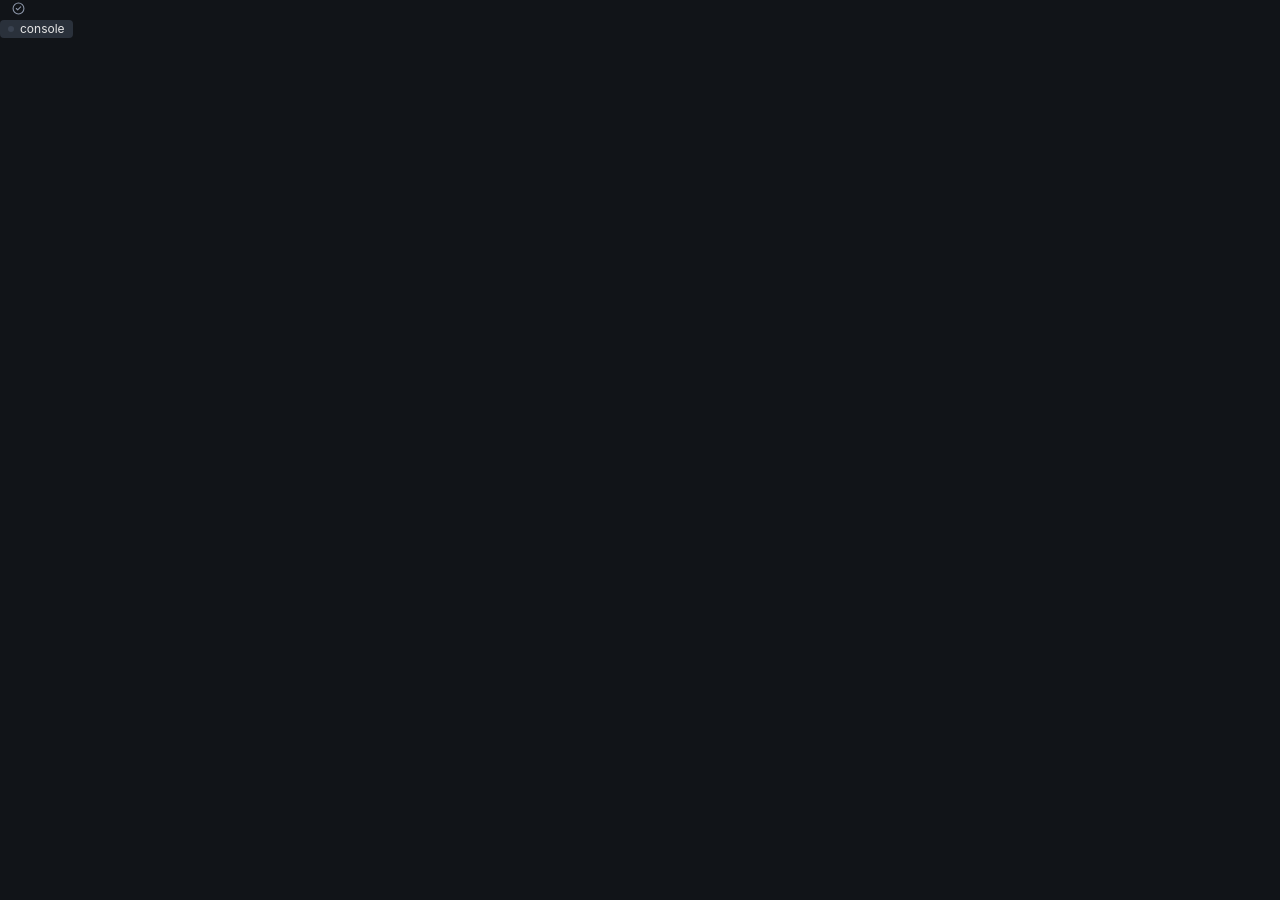
Test: the segmented control switches the tab; Escape and esc close the drawer on problems (#225)
The image size is (1280, 900).
Press M
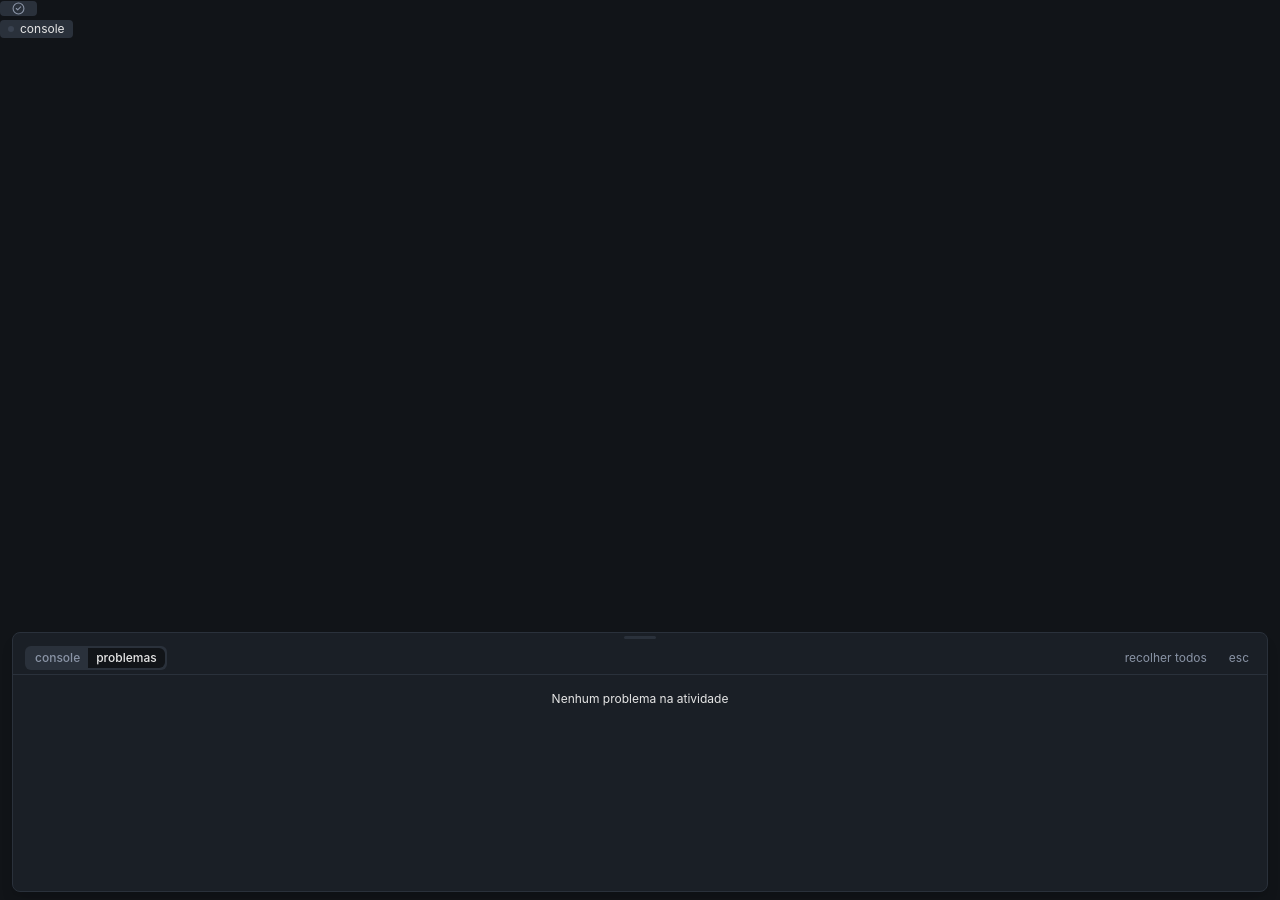
Click the radio button labelled "console".
click(58, 658)  # box x1=27 y1=648 x2=88 y2=668
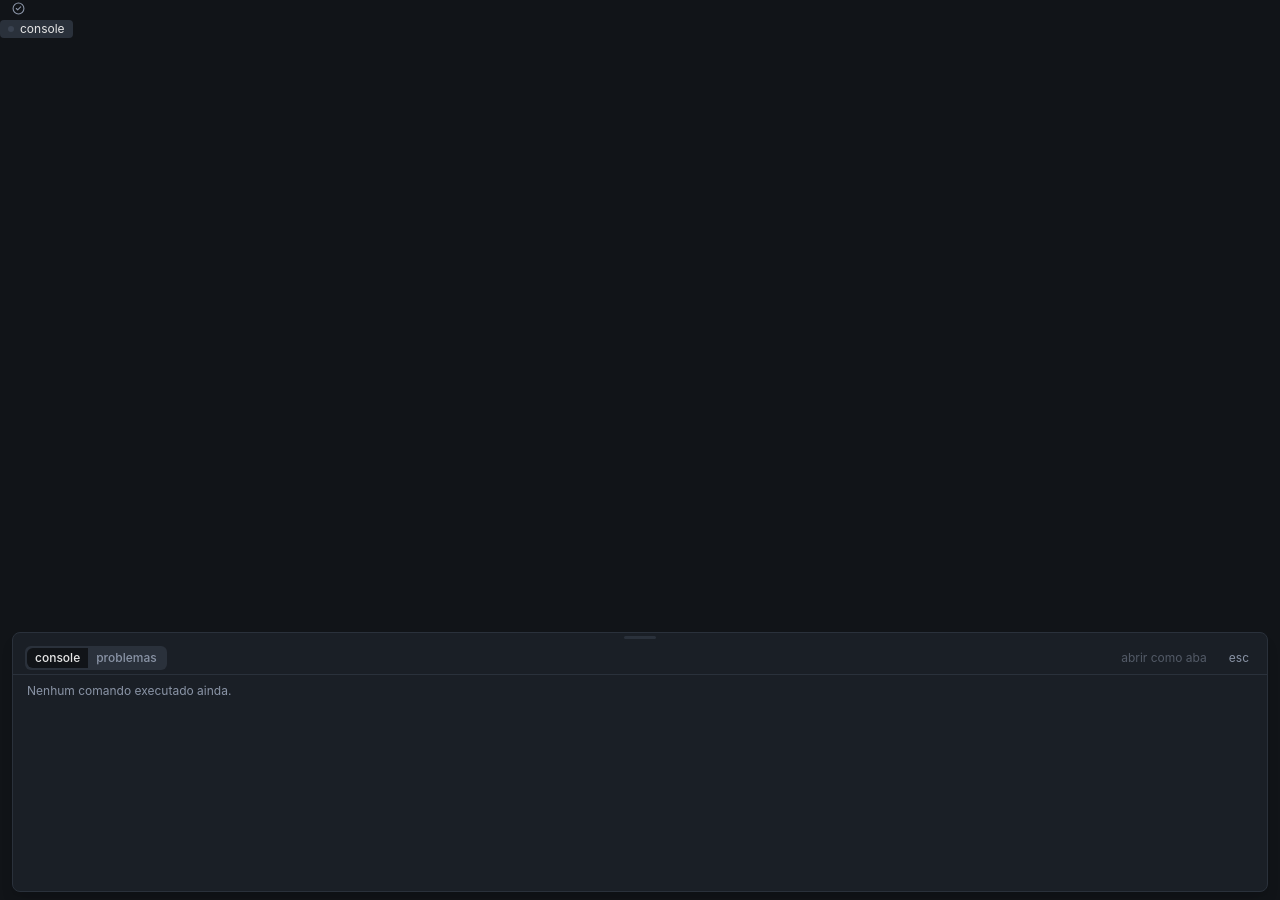
expect the text "Nenhum comando executado ainda." is shown: met, box x1=27 y1=683 x2=231 y2=698
Click the radio button labelled "problemas".
click(126, 658)  # box x1=88 y1=648 x2=165 y2=668
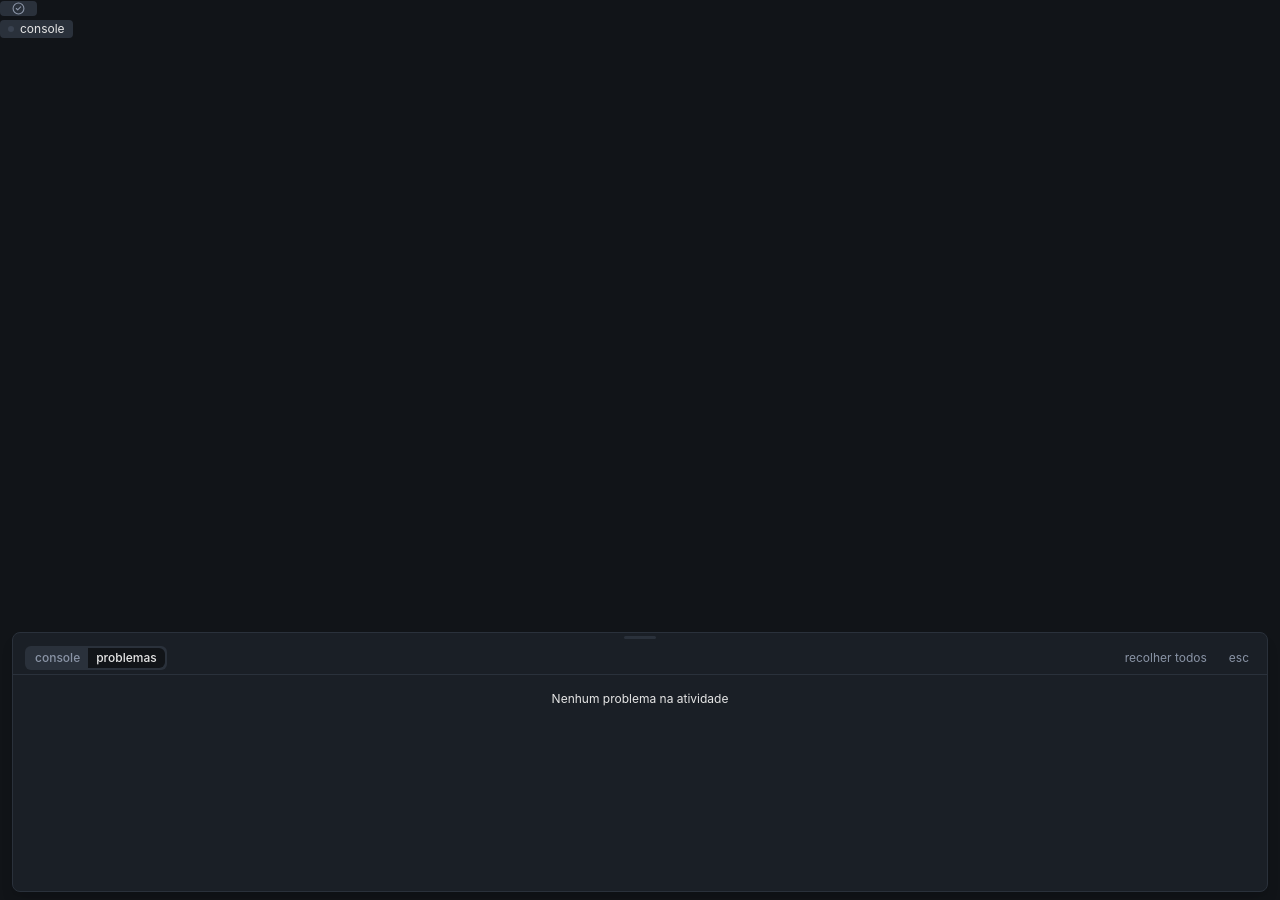
expect the text "Nenhum problema na atividade" is shown: met, box x1=552 y1=691 x2=728 y2=707
Press Escape
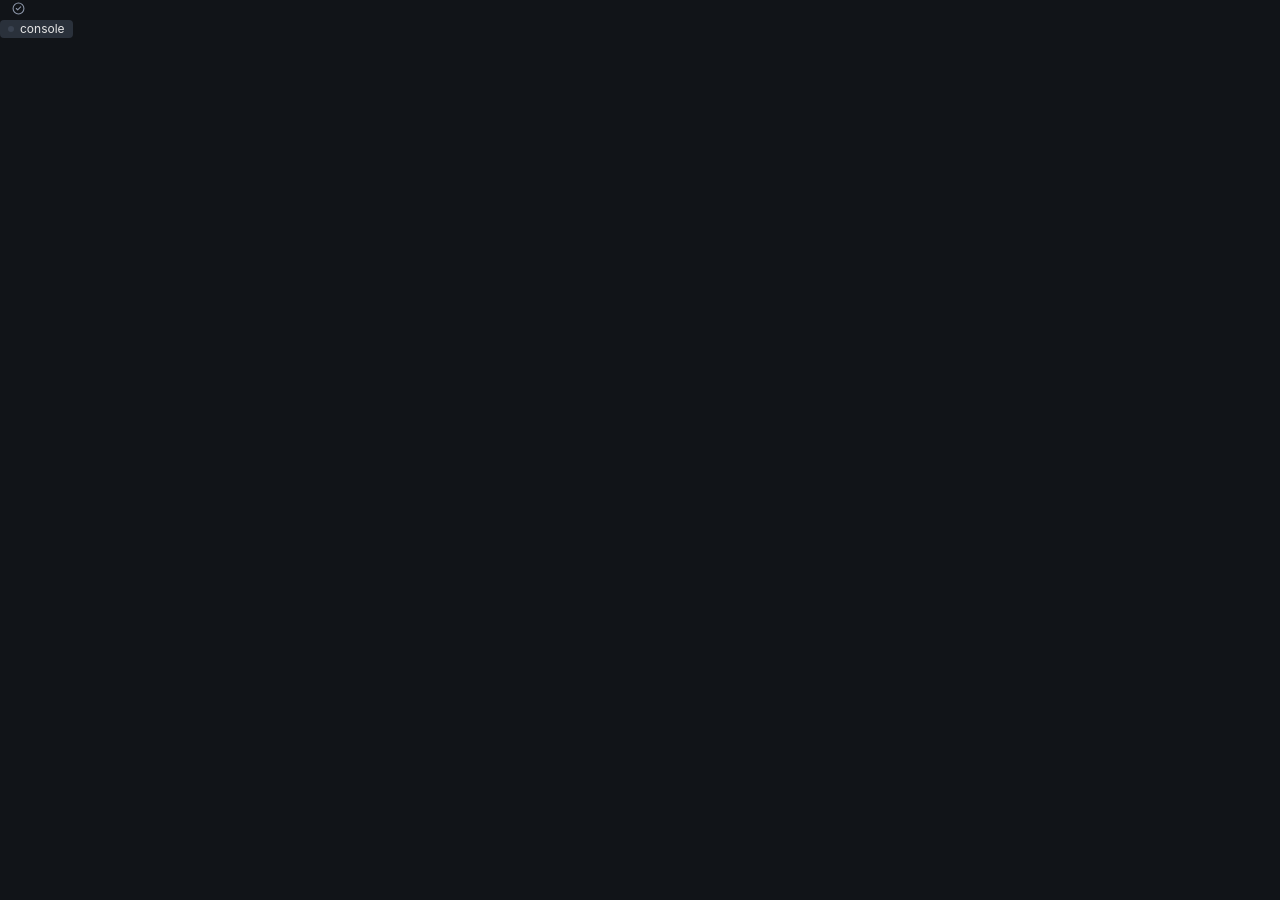
expect no elements "console" are shown: met
Press M
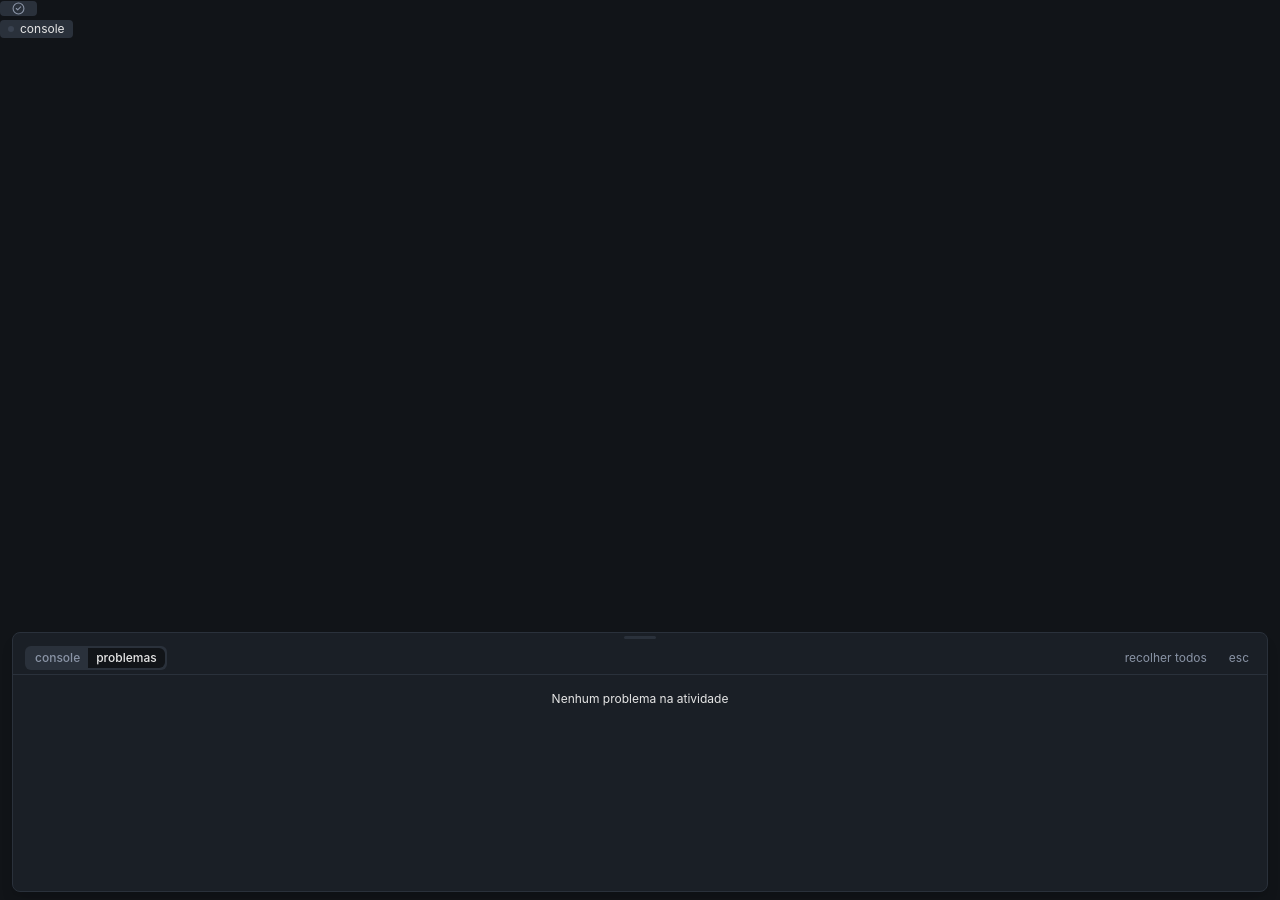
Click the button with aria-label "fechar o console".
click(1239, 658)  # box x1=1223 y1=648 x2=1255 y2=668
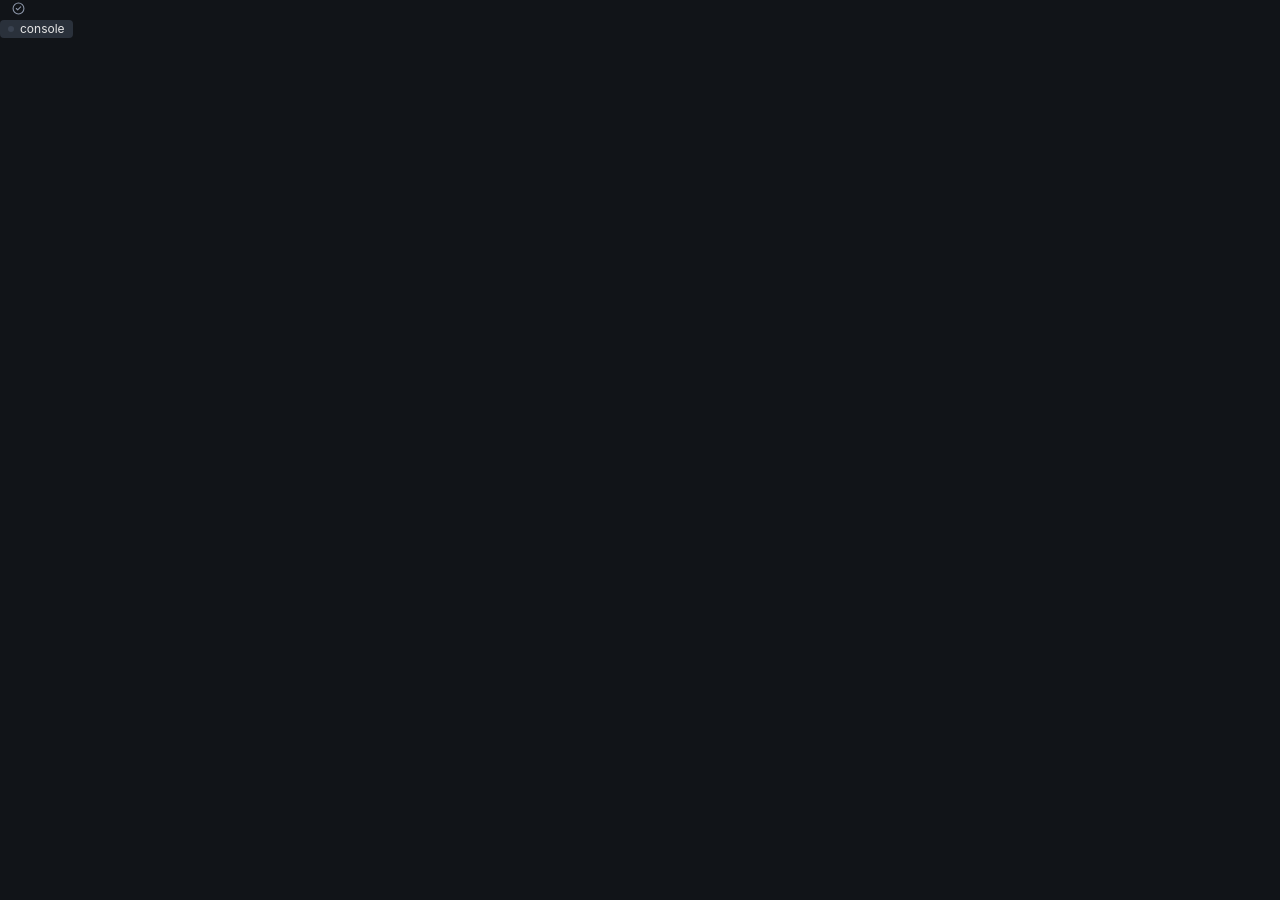
expect no elements "console" are shown: met
